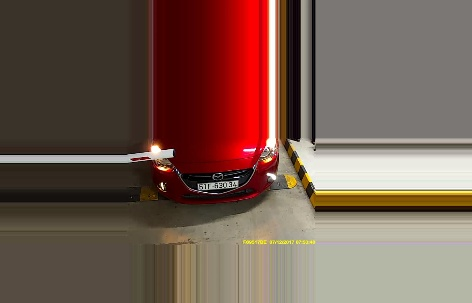plate: (197, 178, 240, 190)
